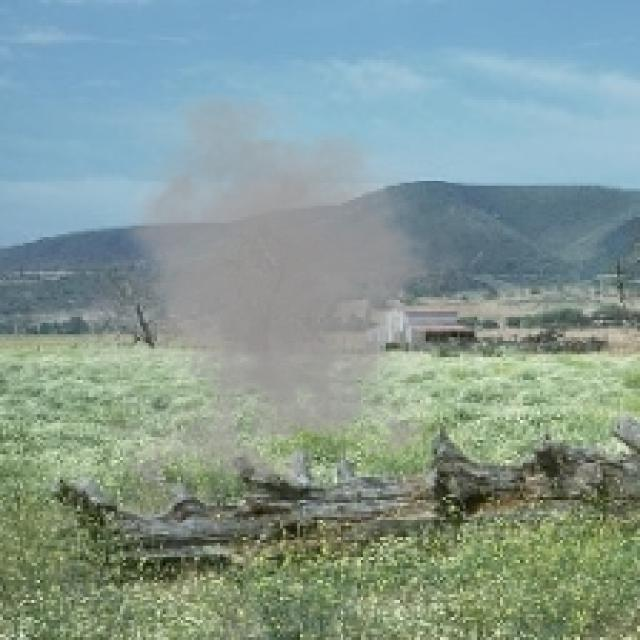Smoke: (62, 86, 488, 508)
